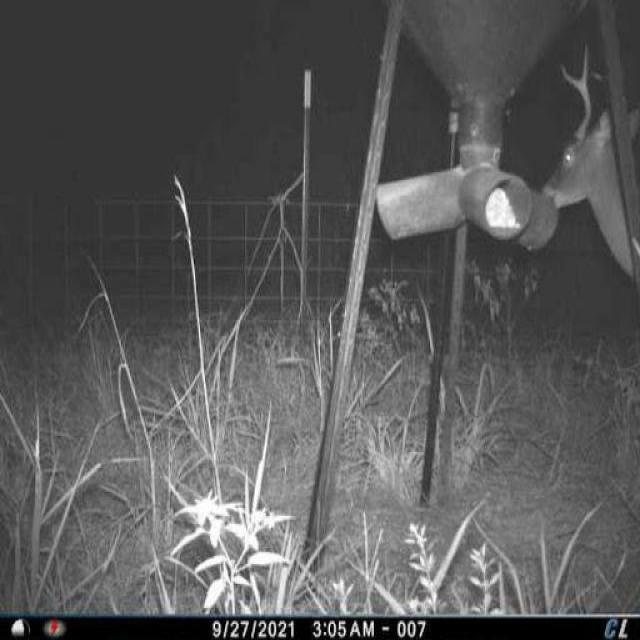deer: (542, 25, 640, 300)
